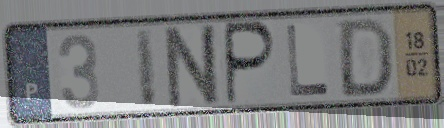3: (56, 31, 101, 111)
D: (337, 15, 396, 99)
I: (132, 25, 159, 111)
L: (283, 23, 333, 100)
N: (163, 20, 224, 111)
P: (224, 19, 280, 108)
